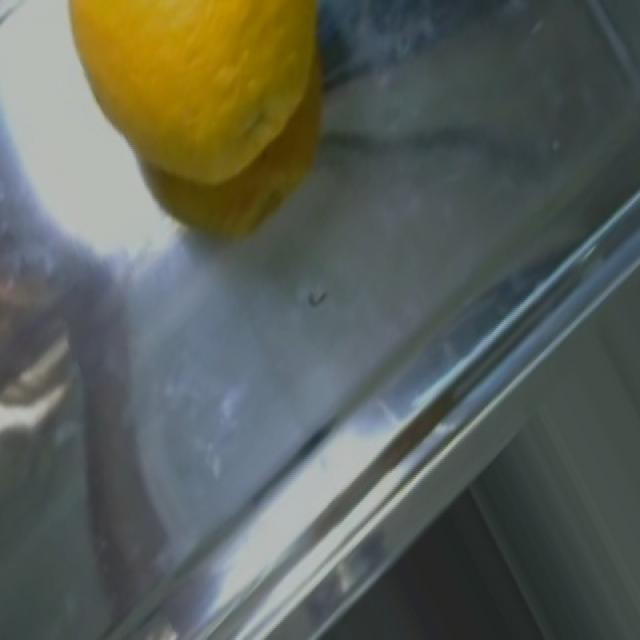Fruit: (58, 0, 348, 246)
